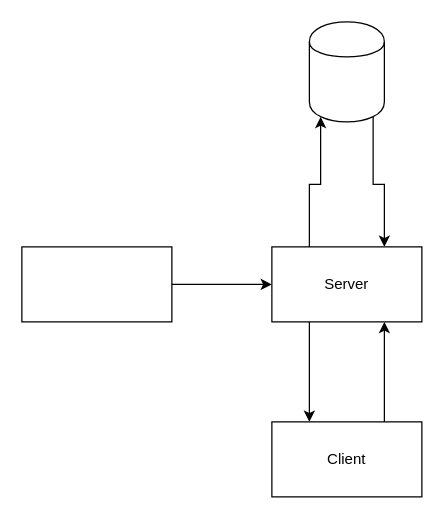
The diagram is 444 pixels wide and 519 high, and some of its shapes have lost their labels. The box of each missing label's shape, as (x1, y1, x2, y2) in pixels:
DB (FS): (308, 21, 384, 122)
GitHub API: (21, 246, 172, 322)
